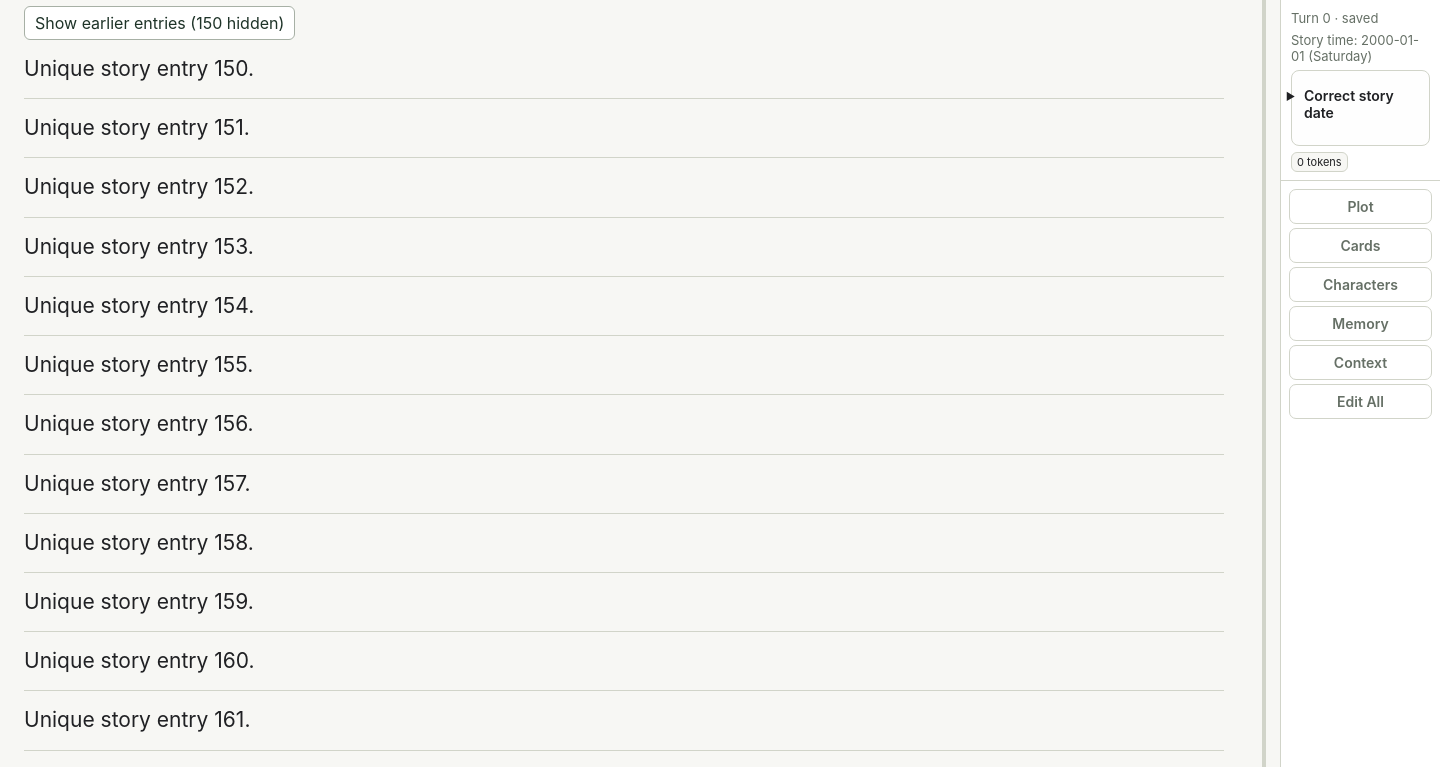
opens a long transcript at recent entries and lets the player reveal and edit older entries
The width and height of the screenshot is (1440, 767).
Expected: the text "Unique story entry 0." is not shown
Click the button "Show earlier entries (150 hidden)" at (160, 23), box [24, 6, 295, 40]
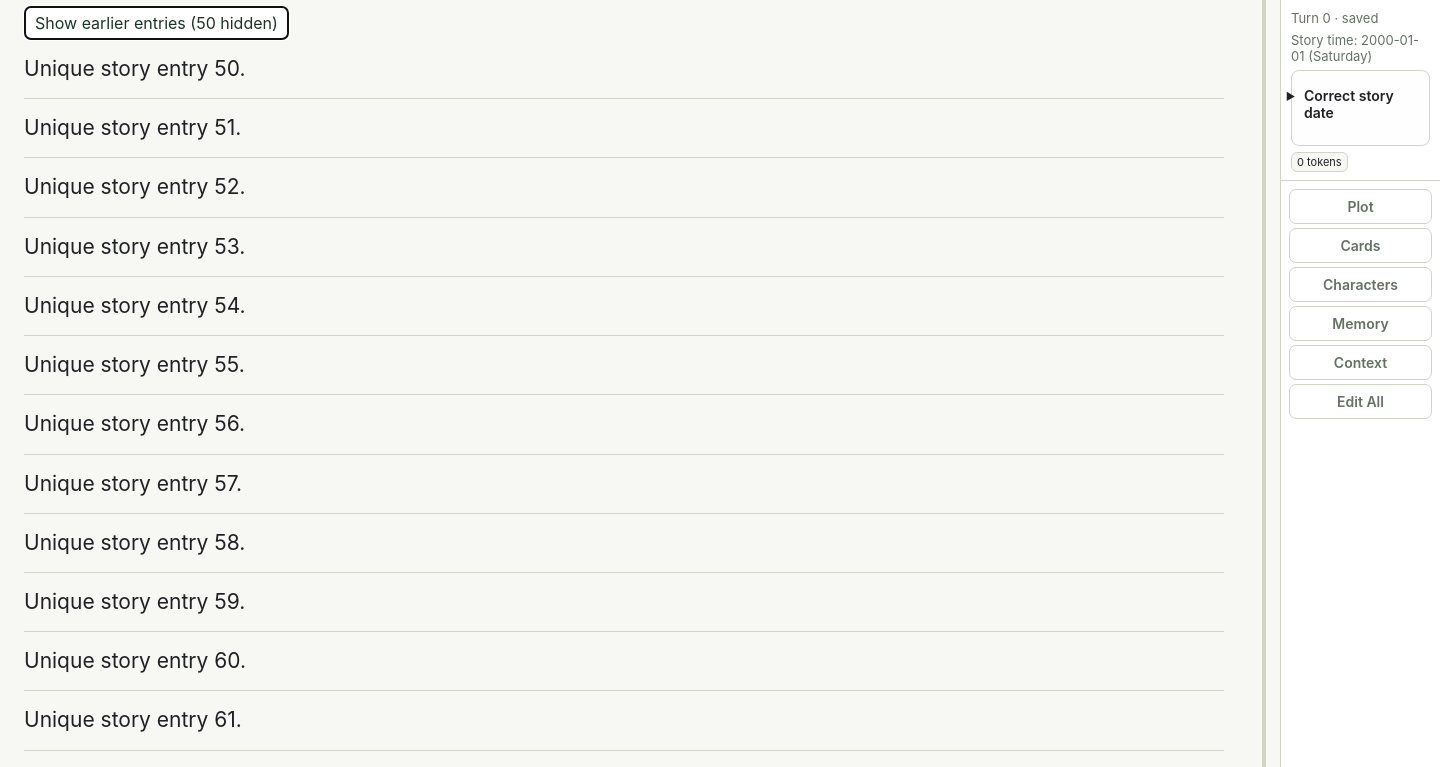
Now the text "Unique story entry 50." is shown, box [24, 56, 246, 81]
Click the button "Show earlier entries (50 hidden)" at (156, 23), box [24, 6, 289, 40]
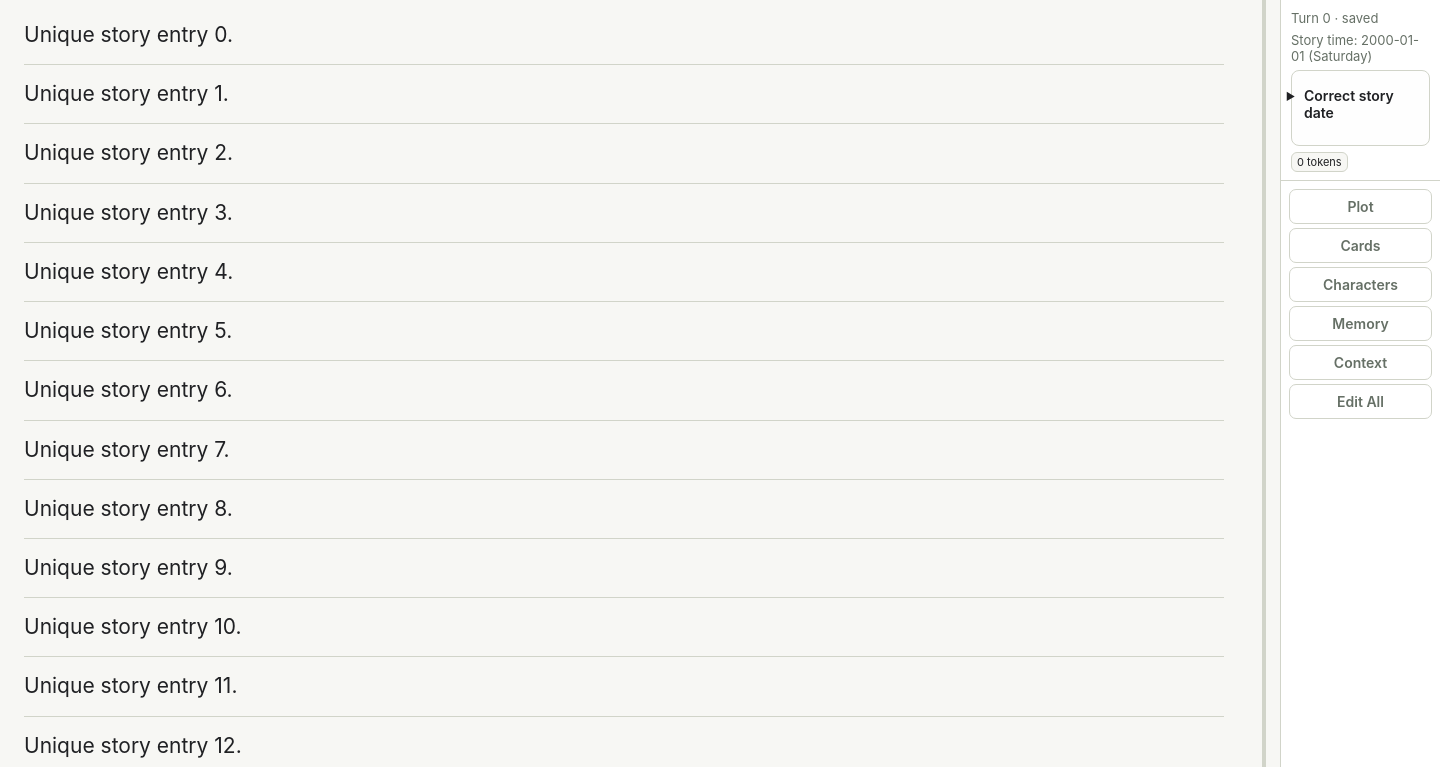
Double-click the text "Unique story entry 0." at (129, 34), box [24, 22, 233, 47]
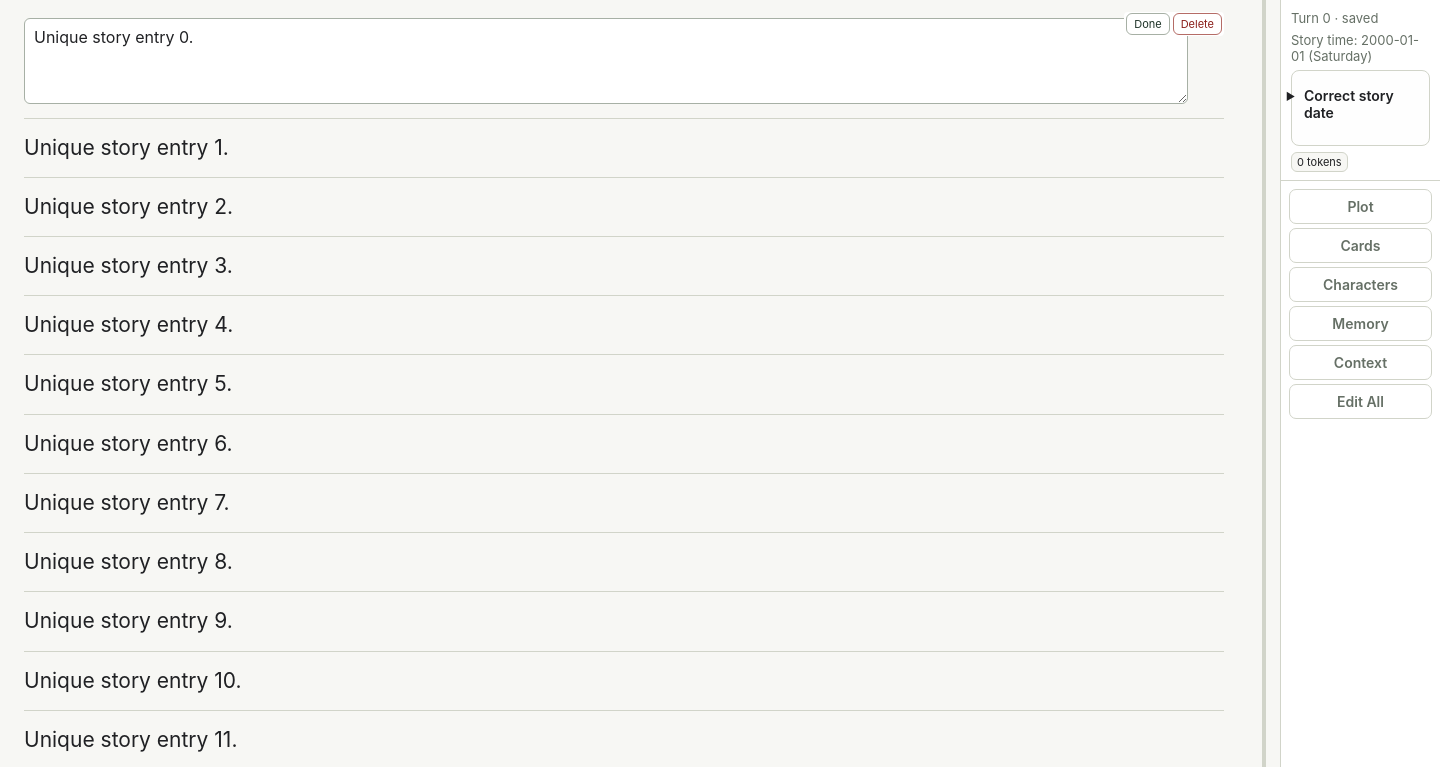
Expected: the button "Show earlier entries" is not shown
Now the text box showing "Unique story entry 0." is shown, box [24, 18, 1188, 104]
